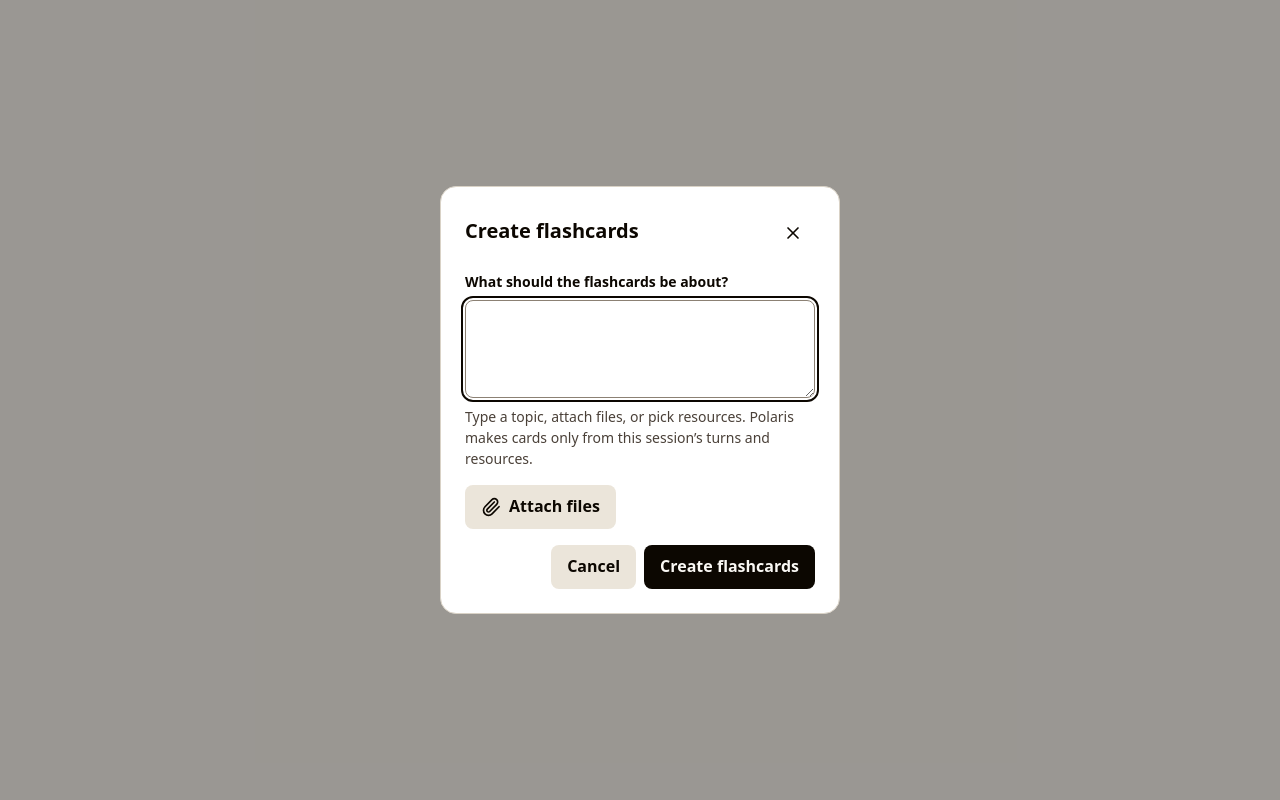
Test case: the dialog needs something to go on (FC-03)
Click the button "Create flashcards".
click(730, 567)  # box [644,545,815,589]
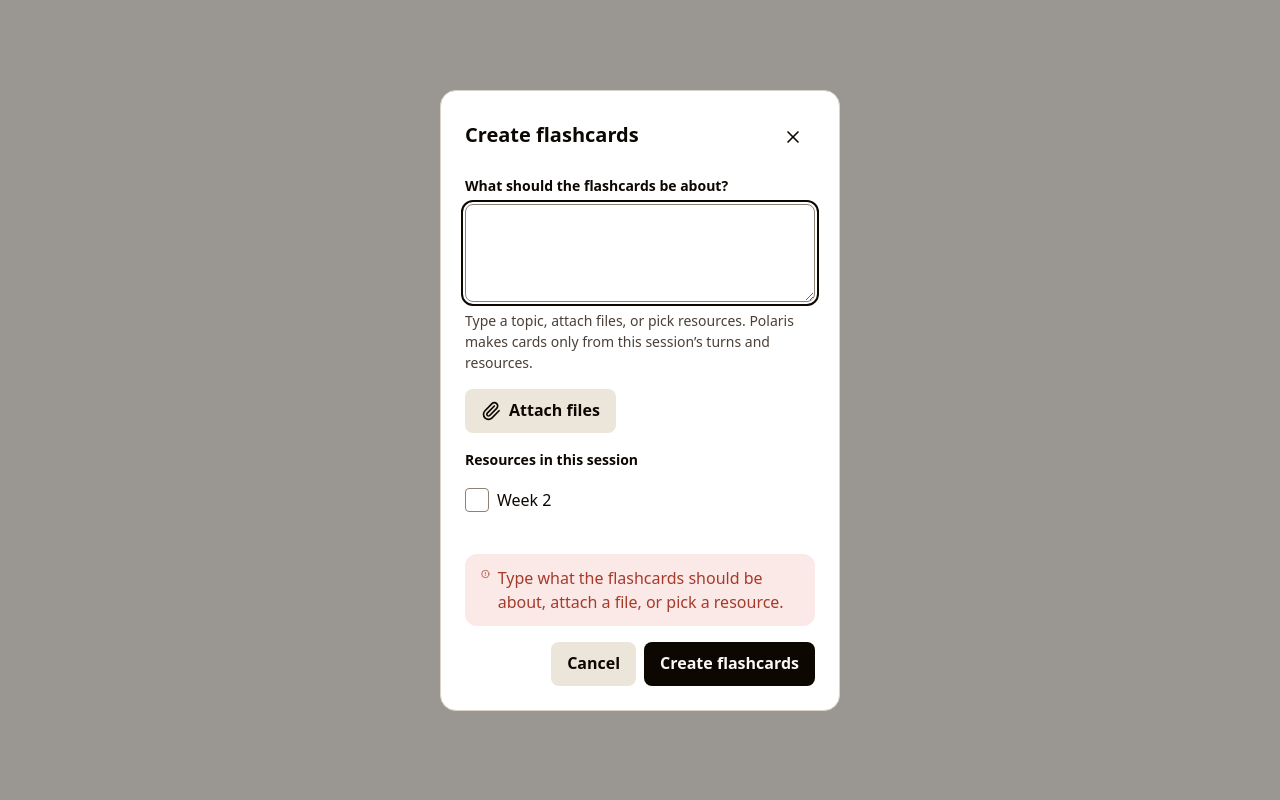
Result: the message reads "Type what the flashcards should be about, attach a file, or pick a resource." at [498,566,784,612]
